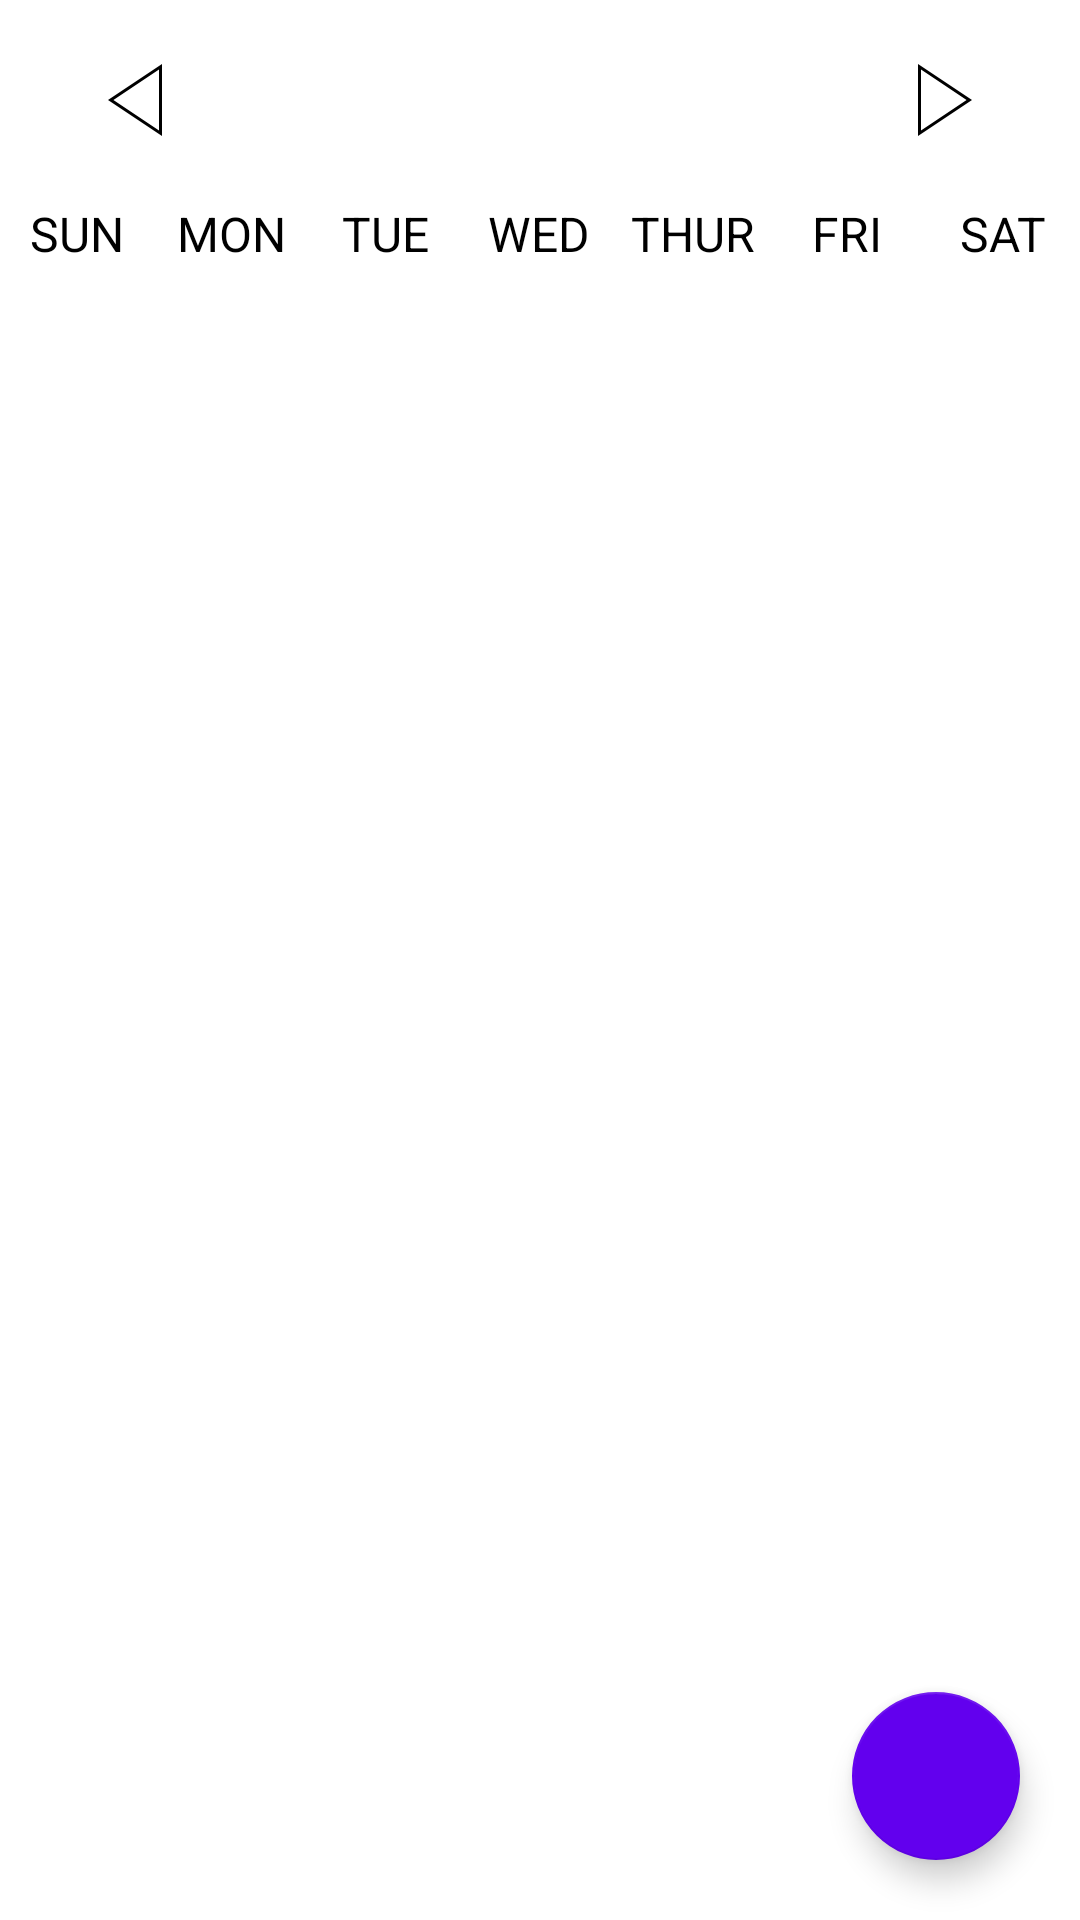

Icons on this 1080 x 1920 Android screen, each with the point to tap as (x,y):
next month: (945,100)
previous month: (135,100)
